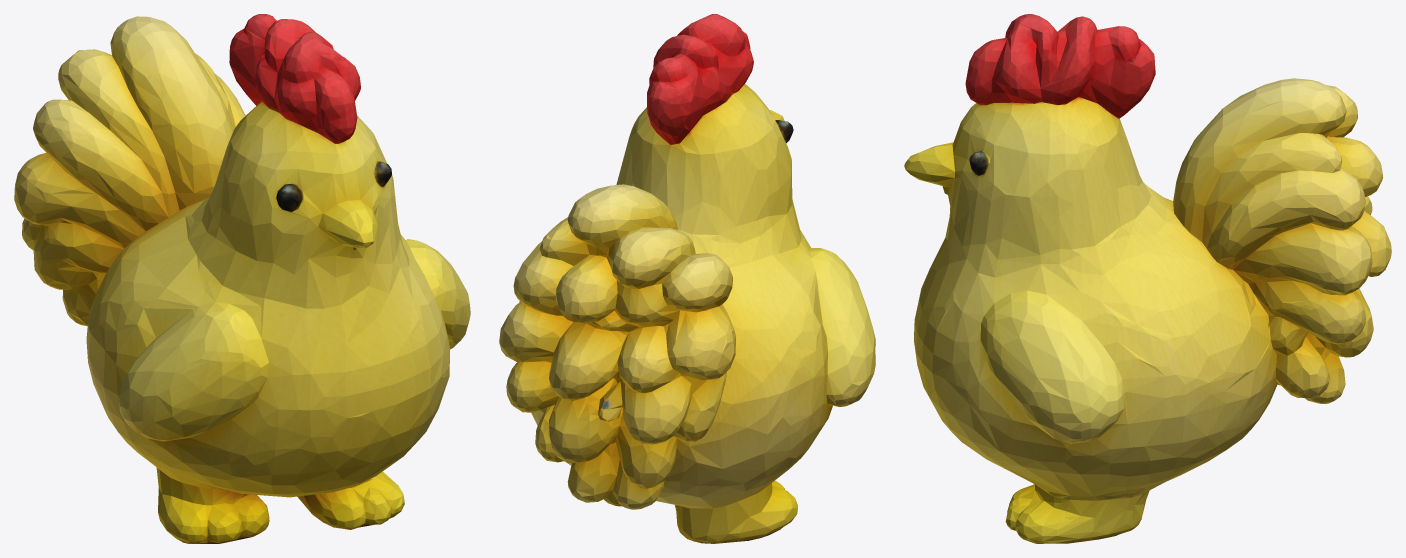
File: chicken.glb
3 renders of one model, left to right at view 1: azimuth 30°, elevation 25°; view 2: azimuth 150°, elevation 25°; view 3: azimuth 270°, elevation 25°, orthographic. The views are drawn at different scales.
Visible parts, largest first — view 1: geometry_0; view 2: geometry_0; view 3: geometry_0.
Part boxes in pixels (x1,y1,x2,y2): geometry_0: [14, 14, 470, 543]; geometry_0: [499, 14, 875, 543]; geometry_0: [904, 14, 1391, 543].
Size of the model in its own units: 0.0638 by 0.0868 by 0.0787.
Materials: 1 (1 with a texture image).
